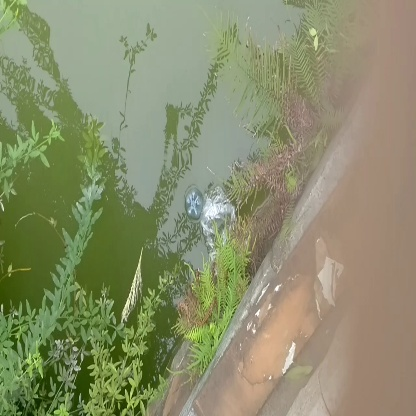plastic-bag: (202, 186, 244, 253)
